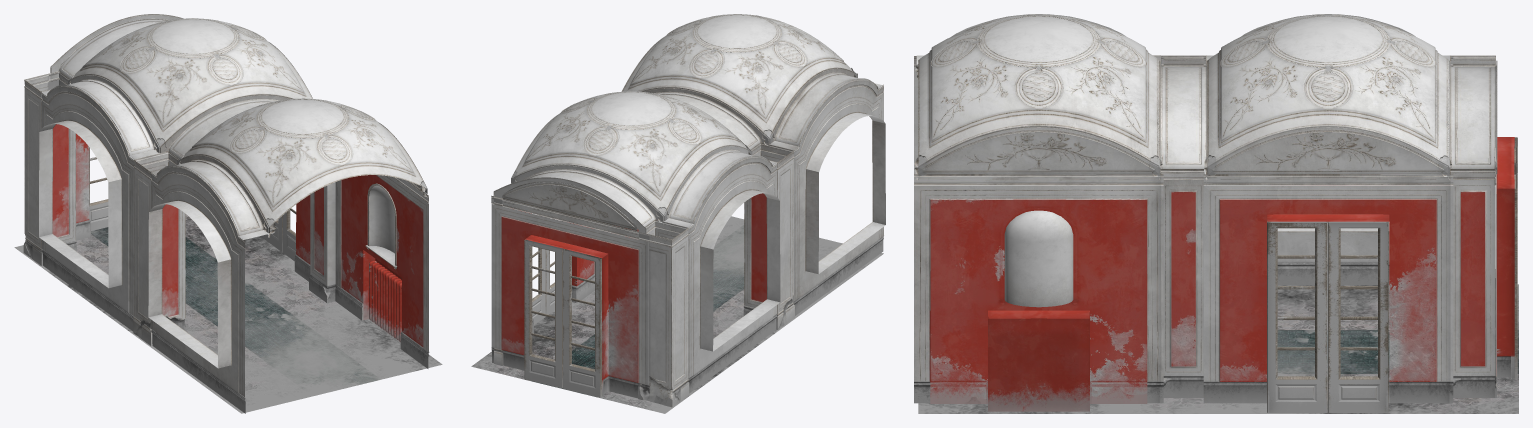
Rendered from hallway.obj.
3 renders of one model, left to right at view 1: azimuth 30°, elevation 25°; view 2: azimuth 150°, elevation 25°; view 3: azimuth 270°, elevation 25°, orthographic. The views are drawn at different scales.
Parts seen in each view (by area): view 1: Floor_Floor_0, room-01.roof.low_room-01_0, room-02.roof.low_room-02_0, room-01.wall.low_room-01_0, room-01.window.low_room-01_0, room-02.window.low_room-02_0, room-01.pillar-01.low_room-01_0, room-02.pillar-01.low_room-02_0, room-01.window-arch.low_room-01_0, room-02.window-arch.low_room-02_0, room-01.pillar-02.low_room-01_0, room-01.transfer-arch.low_room-01_0 (+5 smaller); view 2: room-02.backwall.low_room-02_0, room-02.roof.low_room-02_0, room-01.roof.low_room-01_0, room-02.window.low_room-02_0, room-01.window.low_room-01_0, Floor_Floor_0, room-02.doors.low_room-02_0, room-02.pillar-01.low_room-02_0, room-01.pillar-01.low_room-01_0, room-02.transfer-arch.low_room-02_0, room-01.window-arch.low_room-01_0, room-02.window-arch.low_room-02_0 (+2 smaller); view 3: room-01.wall.low_room-01_0, room-02.wall.low_room-02_0, room-02.roof.low_room-02_0, room-01.roof.low_room-01_0, room-02.doors.low_room-02_0, Floor_Floor_0, room-02.pillar-02.low_room-02_0, room-01.pillar-02.low_room-01_0, room-01.transfer-arch.low_room-01_0, room-02.transfer-arch.low_room-02_0, room-02.window.low_room-02_0, room-02.backwall.low_room-02_0 (+3 smaller).
Boxes of the visible parts, x1,y1,x2,y2 form: Floor_Floor_0: [14, 214, 442, 413]; room-01.roof.low_room-01_0: [179, 98, 426, 227]; room-02.roof.low_room-02_0: [69, 18, 312, 146]; room-01.wall.low_room-01_0: [335, 123, 429, 368]; room-01.window.low_room-01_0: [148, 165, 245, 413]; room-02.window.low_room-02_0: [39, 85, 135, 331]; room-01.pillar-01.low_room-01_0: [133, 151, 186, 345]; room-02.pillar-01.low_room-02_0: [23, 71, 76, 265]; room-01.window-arch.low_room-01_0: [151, 154, 269, 239]; room-02.window-arch.low_room-02_0: [42, 74, 160, 159]; room-01.pillar-02.low_room-01_0: [309, 182, 335, 303]; room-01.transfer-arch.low_room-01_0: [159, 94, 293, 159]; room-02.backwall.low_room-02_0: [491, 182, 649, 398]; room-02.roof.low_room-02_0: [511, 91, 749, 215]; room-01.roof.low_room-01_0: [622, 14, 855, 137]; room-02.window.low_room-02_0: [687, 155, 780, 393]; room-01.window.low_room-01_0: [793, 78, 885, 315]; Floor_Floor_0: [471, 216, 883, 413]; room-02.doors.low_room-02_0: [524, 215, 602, 397]; room-02.pillar-01.low_room-02_0: [638, 219, 689, 407]; room-01.pillar-01.low_room-01_0: [743, 142, 794, 329]; room-02.transfer-arch.low_room-02_0: [493, 164, 663, 233]; room-01.window-arch.low_room-01_0: [768, 67, 882, 150]; room-02.window-arch.low_room-02_0: [663, 145, 777, 227]; room-01.wall.low_room-01_0: [914, 126, 1163, 411]; room-02.wall.low_room-02_0: [1203, 126, 1453, 403]; room-02.roof.low_room-02_0: [1207, 15, 1448, 165]; room-01.roof.low_room-01_0: [918, 15, 1159, 165]; room-02.doors.low_room-02_0: [1267, 137, 1517, 412]; Floor_Floor_0: [918, 284, 1518, 413]; room-02.pillar-02.low_room-02_0: [1450, 169, 1496, 397]; room-01.pillar-02.low_room-01_0: [1160, 169, 1206, 397]; room-01.transfer-arch.low_room-01_0: [1159, 60, 1207, 174]; room-02.transfer-arch.low_room-02_0: [1449, 60, 1497, 174]; room-02.window.low_room-02_0: [1203, 14, 1453, 285]; room-02.backwall.low_room-02_0: [1494, 77, 1514, 388].
Size of the model in its own units: 4.99 by 5.44 by 9.25.
3 materials, 3 textured.
